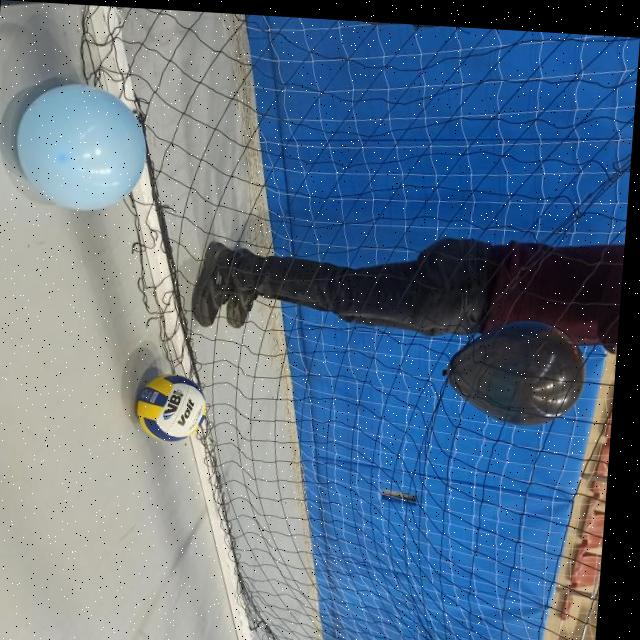balloon: (15, 82, 149, 211), (451, 310, 594, 423)
